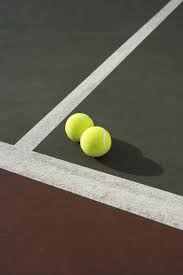tennis_ball: (80, 125, 112, 156), (65, 112, 94, 143)
